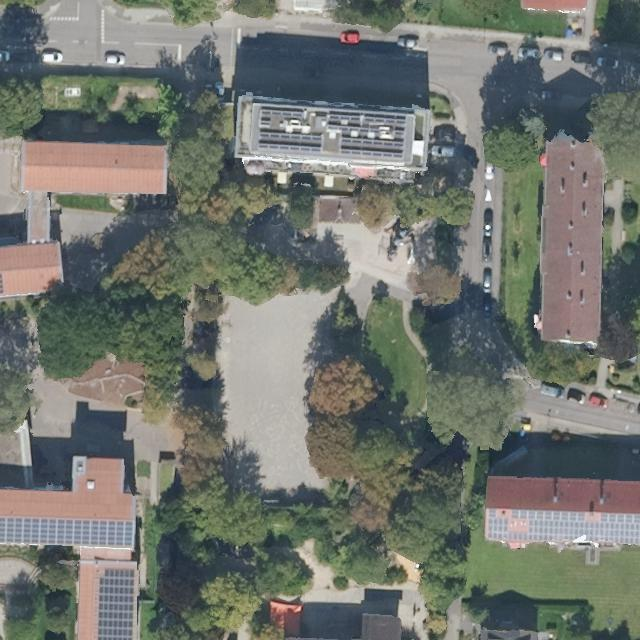PV: (484, 505, 638, 549), (0, 513, 142, 554), (93, 563, 139, 638), (328, 113, 408, 126), (255, 141, 325, 154), (256, 131, 325, 144), (339, 137, 406, 149), (338, 148, 405, 160), (326, 124, 383, 135), (259, 108, 304, 119), (392, 129, 406, 137)
